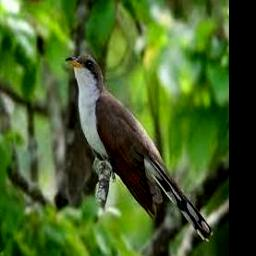Cuckoo: (66, 54, 213, 243)
